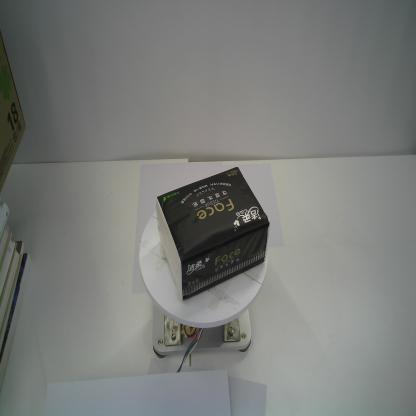Tissue: (156, 166, 269, 302)
